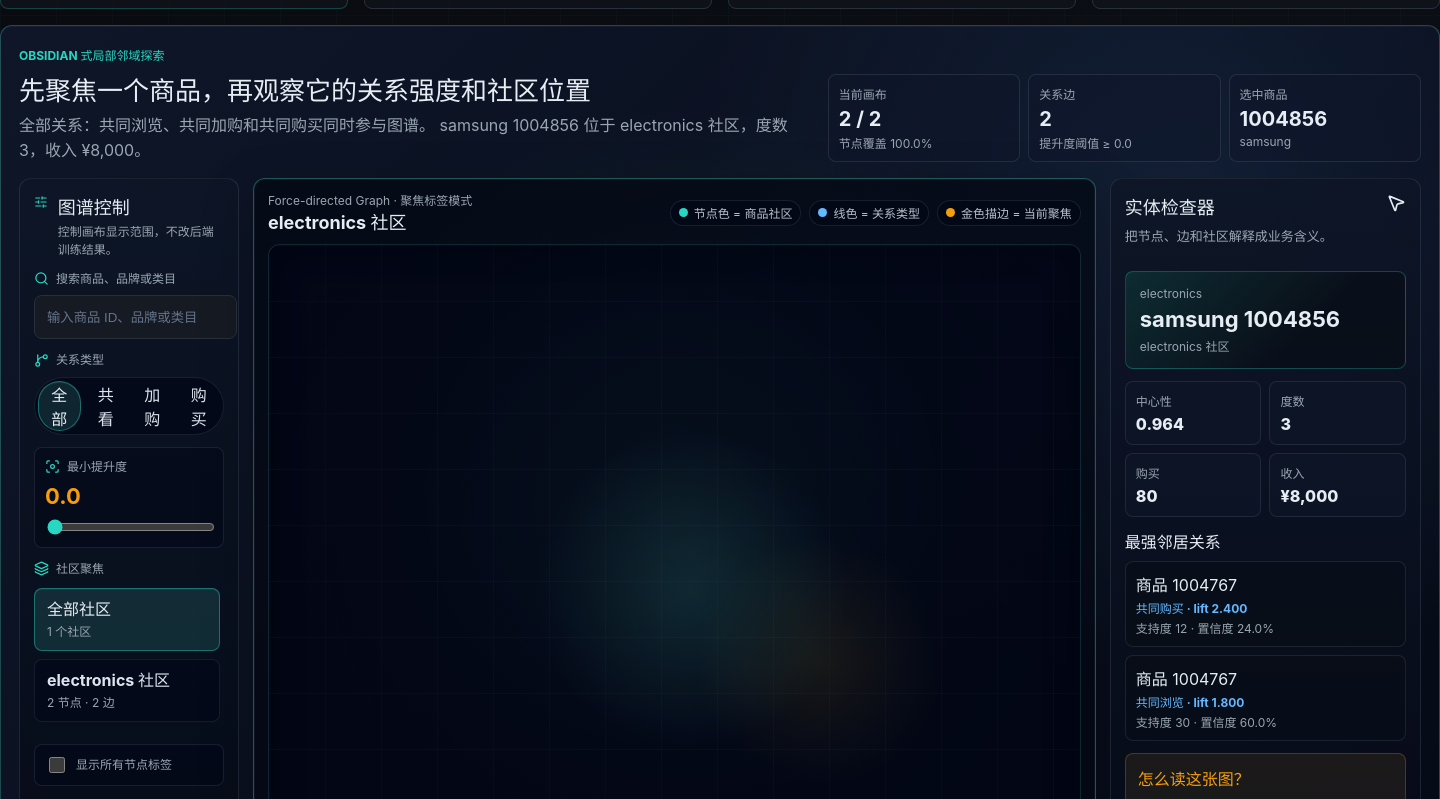
Test: AffinityPage › lets operators filter graph evidence by relation and lift threshold
The width and height of the screenshot is (1440, 799).
(page scrolled)
Click the button "购买" at (199, 406), box [178,381,220,431]
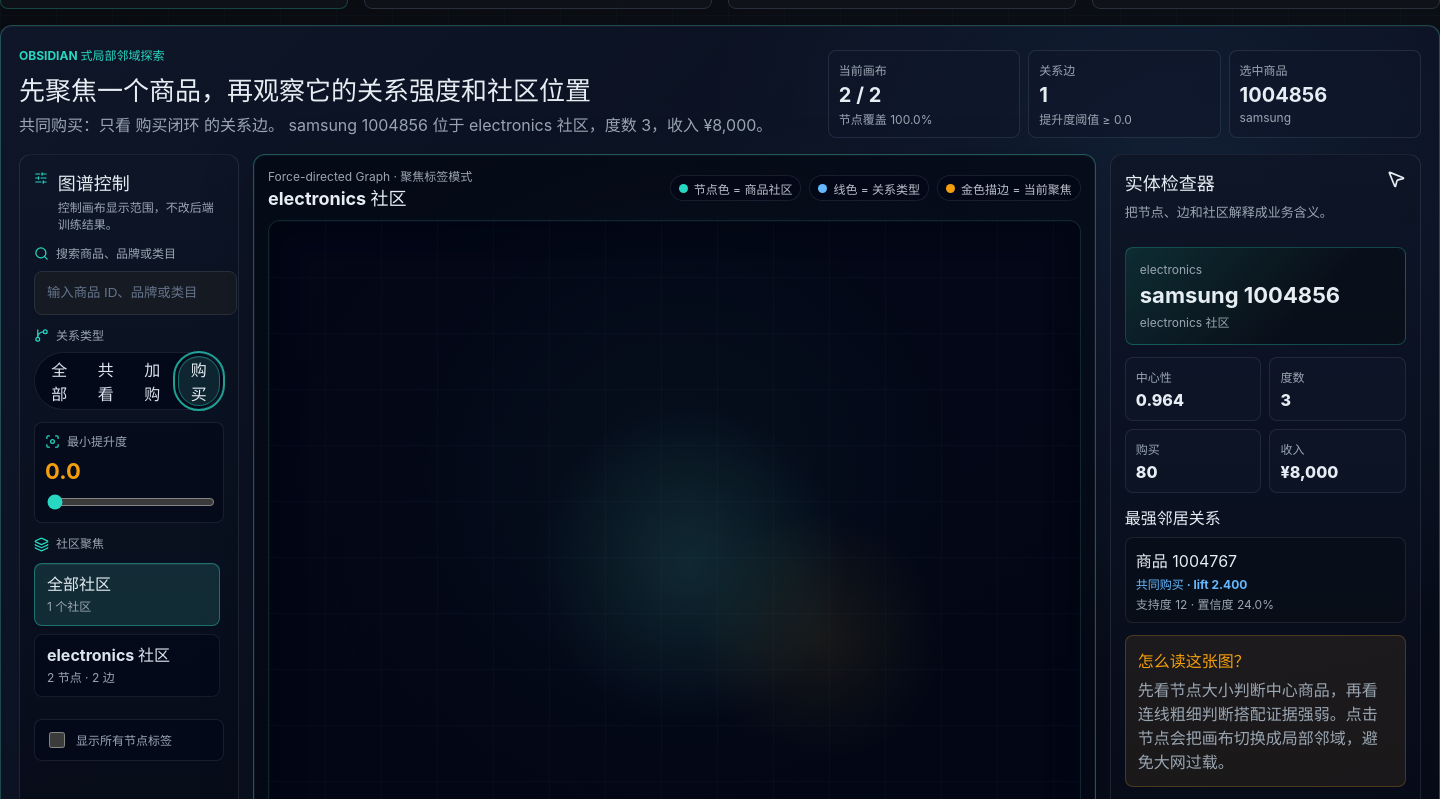
expect the text "共同购买：只看" is shown: met, box [19,115,284,135]
Set the slider labelled "最小提升度 0.0" to "2" at (116, 502), box [47,494,215,510]
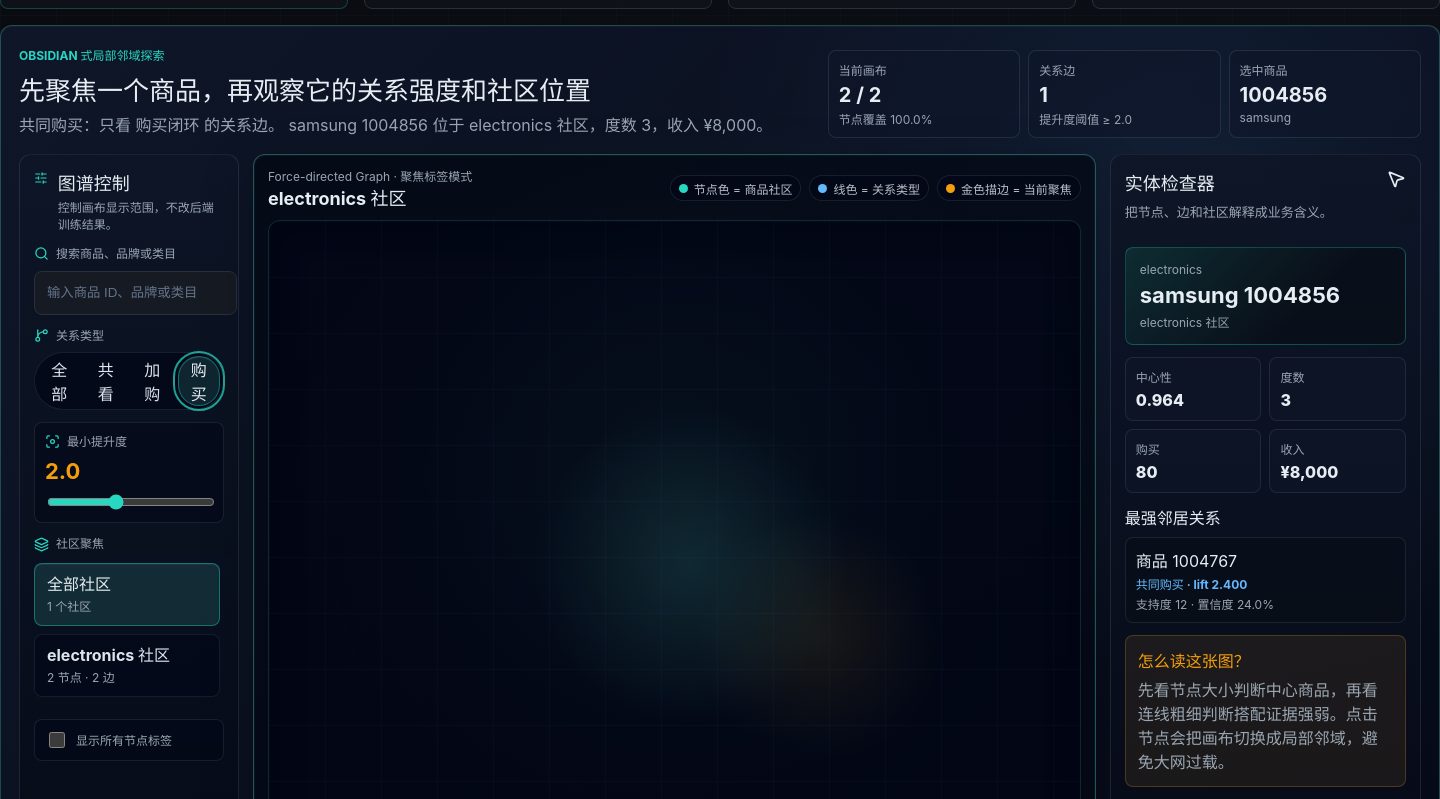
expect the text "提升度阈值 ≥ 2.0" is shown: met, box [1039,112,1132,126]
